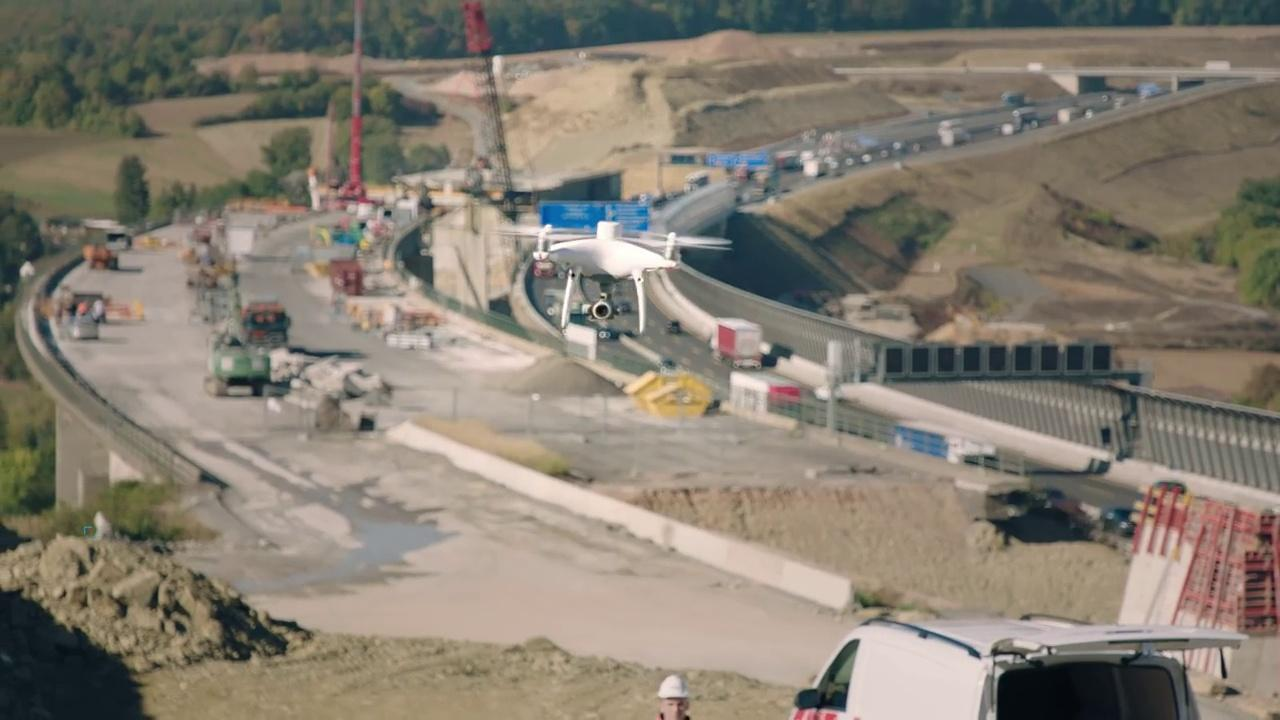drone: (495, 219, 736, 328)
